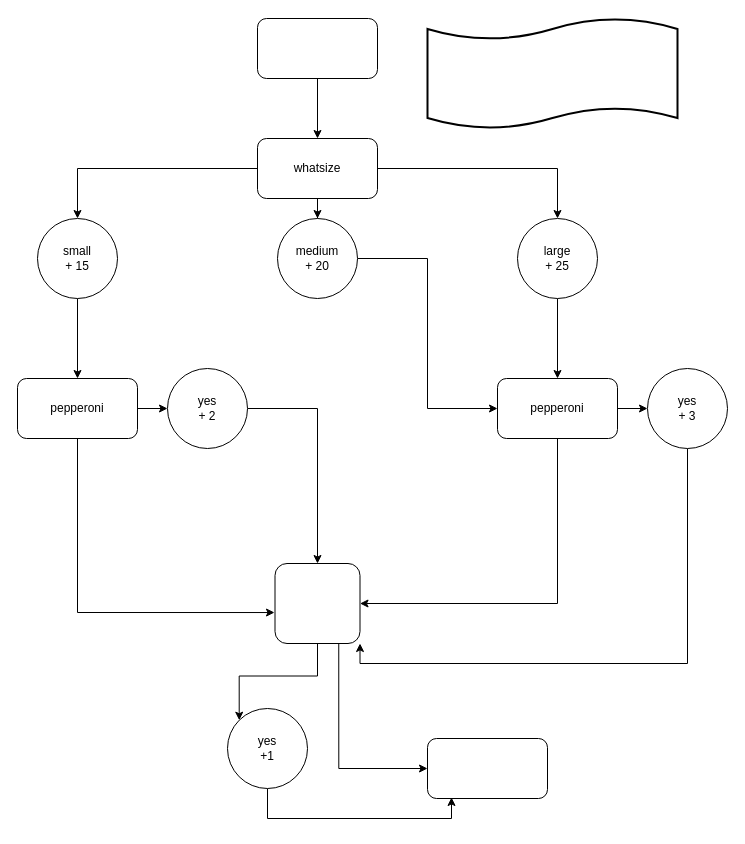
This 745x844 diagram has some shape labels left out. The shapes that lost their labels are listed below. From the top down, each one's centre as x and y in pixels, then its label:
At point (317, 48): "START".
At point (552, 73): "Pizza Order".
At point (317, 603): "cheese".
At point (487, 768): "Final Bill".
